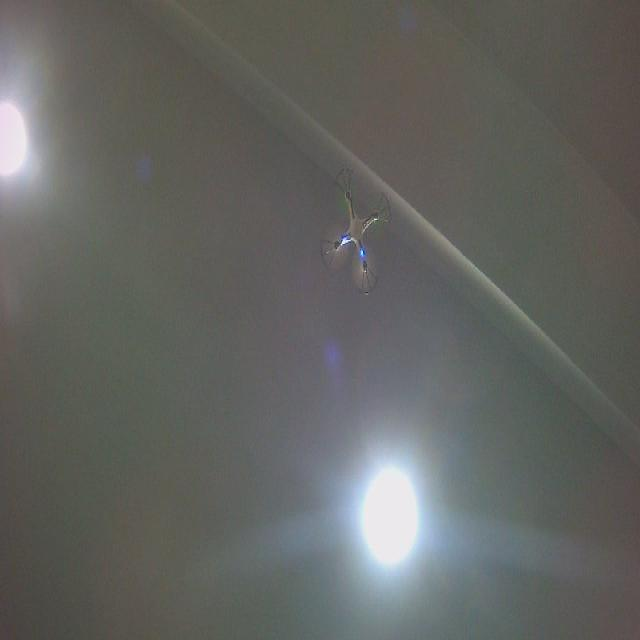drone: (318, 164, 395, 298)
